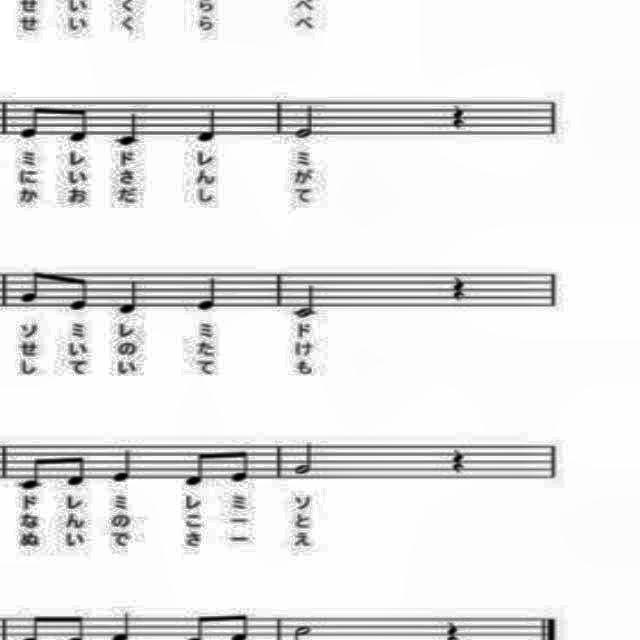Eighth-note: (9, 96, 49, 146), (180, 442, 214, 492), (14, 448, 46, 496), (17, 263, 47, 313), (65, 270, 95, 316), (226, 440, 254, 488), (66, 102, 95, 148), (63, 448, 89, 492)
Half-note: (290, 281, 326, 323), (290, 438, 318, 486), (291, 102, 321, 140)
Quarter-note: (115, 272, 146, 320), (193, 268, 220, 316), (192, 99, 220, 145), (112, 109, 144, 149), (111, 442, 137, 491)
Quarter-rest: (440, 92, 472, 138), (444, 436, 472, 479), (450, 266, 472, 306)
